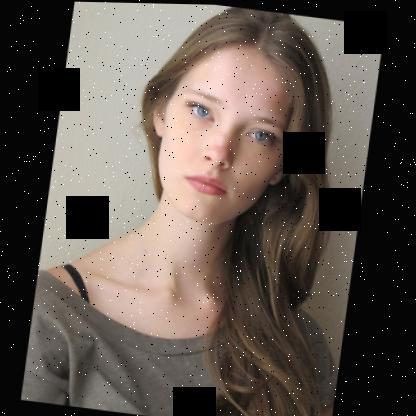Female: (139, 32, 304, 231)
